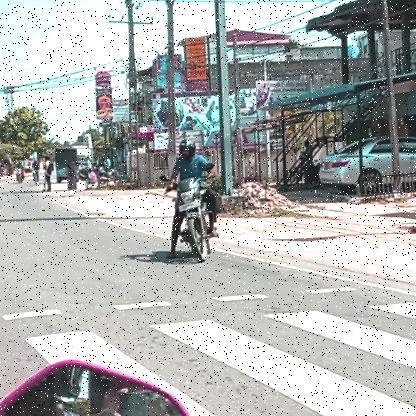motorcycle: (158, 176, 226, 266)
